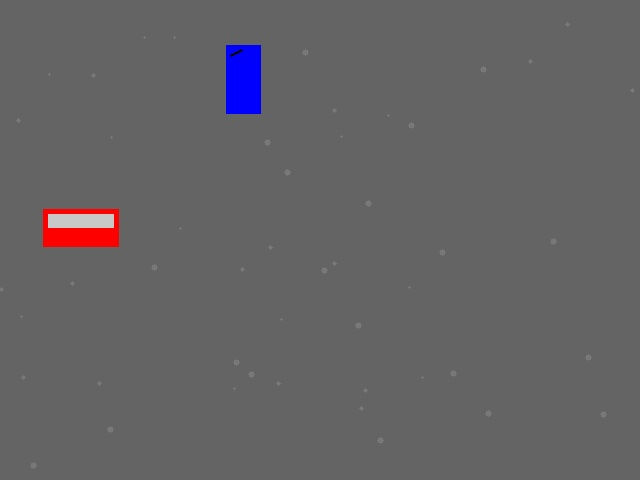car: (43, 209, 118, 246)
motorcycle: (226, 45, 260, 113)
